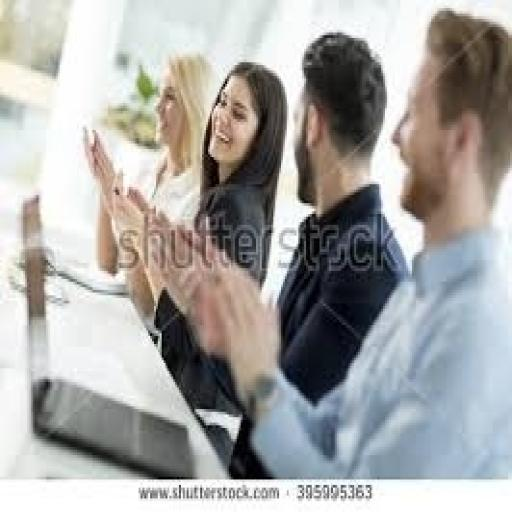clapping: (144, 6, 510, 480), (79, 46, 219, 344)
